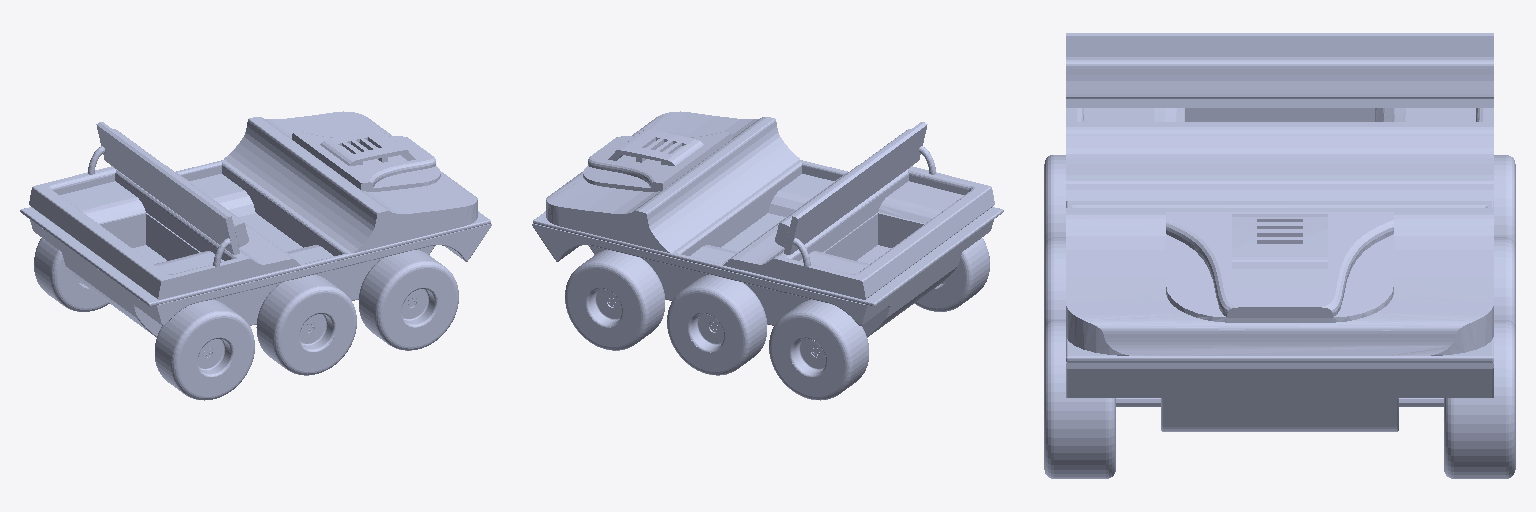
URDF robot description (argo_urdf_2):
<?xml version="1.0"?>
<robot
  name="argo_urdf_2">
  <link
    name="argo_base">
    <inertial>
      <origin
        xyz="-0.0287146112802265 2.27427526650059E-06 -0.0381581636610044"
        rpy="0 0 0" />
      <mass
        value="32.9230854907662" />
      <inertia
        ixx="0.50262556870673"
        ixy="2.64755785172109E-05"
        ixz="0.0516273031694707"
        iyy="1.30944756370371"
        iyz="6.39030326038844E-06"
        izz="1.57981157521551" />
    </inertial>
    <visual>
      <origin
        xyz="0 0 0"
        rpy="0 0 0" />
      <geometry>
        <mesh
          filename="package://argo_description/meshes/argo_base.STL" />
      </geometry>
      <material
        name="">
        <color
          rgba="0.792156862745098 0.819607843137255 0.933333333333333 1" />
      </material>
    </visual>
    <collision>
      <origin
        xyz="0 0 0"
        rpy="0 0 0" />
      <geometry>
        <mesh
          filename="package://argo_description/meshes/argo_base_col.STL" />
      </geometry>
    </collision>
  </link>
  <link
    name="FLW">
    <inertial>
      <origin
        xyz="0 0.0156139504736138 0"
        rpy="0 0 0" />
      <mass
        value="1.50789368049402" />
      <inertia
        ixx="0.00365307678558648"
        ixy="5.1636108652648E-20"
        ixz="2.64359085585098E-19"
        iyy="0.00597955732075583"
        iyz="-2.08311224067256E-21"
        izz="0.00365307678558648" />
    </inertial>
    <visual>
      <origin
        xyz="0 0 0"
        rpy="0 0 0" />
      <geometry>
        <mesh
          filename="package://argo_description/meshes/FLW.STL" />
      </geometry>
      <material
        name="">
        <color
          rgba="0.792156862745098 0.819607843137255 0.933333333333333 1" />
      </material>
    </visual>
    <collision>
      <origin
        xyz="0 0 0"
        rpy="0 0 0" />
      <geometry>
        <mesh
          filename="package://argo_description/meshes/FLW_col.STL" />
      </geometry>
    </collision>
  </link>
  <joint
    name="FLW_cont"
    type="continuous">
    <origin
      xyz="0.12882 0.19812 -0.12406"
      rpy="0 -1.1994E-16 0" />
    <parent
      link="argo_base" />
    <child
      link="FLW" />
    <axis
      xyz="0 1 0" />
  </joint>
  <link
    name="MLW">
    <inertial>
      <origin
        xyz="-1.11022302462516E-16 0.0156139504736138 -2.77555756156289E-17"
        rpy="0 0 0" />
      <mass
        value="1.50789368049402" />
      <inertia
        ixx="0.00365307678558648"
        ixy="-1.96783860550682E-20"
        ixz="-1.53748539592062E-19"
        iyy="0.00597955732075583"
        iyz="2.56422756461994E-20"
        izz="0.00365307678558648" />
    </inertial>
    <visual>
      <origin
        xyz="0 0 0"
        rpy="0 0 0" />
      <geometry>
        <mesh
          filename="package://argo_description/meshes/MLW.STL" />
      </geometry>
      <material
        name="">
        <color
          rgba="0.792156862745098 0.819607843137255 0.933333333333333 1" />
      </material>
    </visual>
    <collision>
      <origin
        xyz="0 0 0"
        rpy="0 0 0" />
      <geometry>
        <mesh
          filename="package://argo_description/meshes/MLW_col.STL" />
      </geometry>
    </collision>
  </link>
  <joint
    name="MLW_cont"
    type="continuous">
    <origin
      xyz="-0.079459 0.19812 -0.12406"
      rpy="0 -1.1994E-16 0" />
    <parent
      link="argo_base" />
    <child
      link="MLW" />
    <axis
      xyz="0 1 0" />
  </joint>
  <link
    name="RLW">
    <inertial>
      <origin
        xyz="1.11022302462516E-16 0.0156139504736138 -8.32667268468867E-17"
        rpy="0 0 0" />
      <mass
        value="1.50789368049402" />
      <inertia
        ixx="0.00365307678558648"
        ixy="-7.0757132097532E-20"
        ixz="2.68751351881889E-19"
        iyy="0.00597955732075583"
        iyz="1.10554828062947E-19"
        izz="0.00365307678558648" />
    </inertial>
    <visual>
      <origin
        xyz="0 0 0"
        rpy="0 0 0" />
      <geometry>
        <mesh
          filename="package://argo_description/meshes/RLW.STL" />
      </geometry>
      <material
        name="">
        <color
          rgba="0.792156862745098 0.819607843137255 0.933333333333333 1" />
      </material>
    </visual>
    <collision>
      <origin
        xyz="0 0 0"
        rpy="0 0 0" />
      <geometry>
        <mesh
          filename="package://argo_description/meshes/RLW_col.STL" />
      </geometry>
    </collision>
  </link>
  <joint
    name="RLW_cont"
    type="continuous">
    <origin
      xyz="-0.28774 0.19812 -0.12406"
      rpy="0 -1.1994E-16 0" />
    <parent
      link="argo_base" />
    <child
      link="RLW" />
    <axis
      xyz="0 1 0" />
  </joint>
  <link
    name="FRW">
    <inertial>
      <origin
        xyz="5.55111512312578E-17 -0.0156139504736139 0"
        rpy="0 0 0" />
      <mass
        value="1.50789368049402" />
      <inertia
        ixx="0.00365307678558648"
        ixy="4.05259849993083E-20"
        ixz="4.25308640713539E-19"
        iyy="0.00597955732075583"
        iyz="-4.92635009524994E-20"
        izz="0.00365307678558648" />
    </inertial>
    <visual>
      <origin
        xyz="0 0 0"
        rpy="0 0 0" />
      <geometry>
        <mesh
          filename="package://argo_description/meshes/FRW.STL" />
      </geometry>
      <material
        name="">
        <color
          rgba="0.792156862745098 0.819607843137255 0.933333333333333 1" />
      </material>
    </visual>
    <collision>
      <origin
        xyz="0 0 0"
        rpy="0 0 0" />
      <geometry>
        <mesh
          filename="package://argo_description/meshes/FRW_col.STL" />
      </geometry>
    </collision>
  </link>
  <joint
    name="FRW_cont"
    type="continuous">
    <origin
      xyz="0.128821215414625 -0.19812 -0.124058737135444"
      rpy="0 0 0" />
    <parent
      link="argo_base" />
    <child
      link="FRW" />
    <axis
      xyz="0 -1 0" />
  </joint>
  <link
    name="MRW">
    <inertial>
      <origin
        xyz="0 -0.0156139504736138 1.38777878078145E-16"
        rpy="0 0 0" />
      <mass
        value="1.50789368049402" />
      <inertia
        ixx="0.00365307678558648"
        ixy="1.31117846911124E-21"
        ixz="-5.15282286567131E-19"
        iyy="0.00597955732075583"
        iyz="-2.1351225407273E-20"
        izz="0.00365307678558648" />
    </inertial>
    <visual>
      <origin
        xyz="0 0 0"
        rpy="0 0 0" />
      <geometry>
        <mesh
          filename="package://argo_description/meshes/MRW.STL" />
      </geometry>
      <material
        name="">
        <color
          rgba="0.792156862745098 0.819607843137255 0.933333333333333 1" />
      </material>
    </visual>
    <collision>
      <origin
        xyz="0 0 0"
        rpy="0 0 0" />
      <geometry>
        <mesh
          filename="package://argo_description/meshes/MRW_col.STL" />
      </geometry>
    </collision>
  </link>
  <joint
    name="MRW_cont"
    type="continuous">
    <origin
      xyz="-0.079459 -0.19812 -0.12406"
      rpy="0 -1.1994E-16 0" />
    <parent
      link="argo_base" />
    <child
      link="MRW" />
    <axis
      xyz="0 -1 0" />
  </joint>
  <link
    name="RRW">
    <inertial>
      <origin
        xyz="-1.11022302462516E-16 -0.0156139504736139 0"
        rpy="0 0 0" />
      <mass
        value="1.50789368049402" />
      <inertia
        ixx="0.00365307678558648"
        ixy="1.06637185456317E-19"
        ixz="1.35525271560688E-20"
        iyy="0.00597955732075583"
        iyz="-1.42529762888991E-20"
        izz="0.00365307678558648" />
    </inertial>
    <visual>
      <origin
        xyz="0 0 0"
        rpy="0 0 0" />
      <geometry>
        <mesh
          filename="package://argo_description/meshes/RRW.STL" />
      </geometry>
      <material
        name="">
        <color
          rgba="0.792156862745098 0.819607843137255 0.933333333333333 1" />
      </material>
    </visual>
    <collision>
      <origin
        xyz="0 0 0"
        rpy="0 0 0" />
      <geometry>
        <mesh
          filename="package://argo_description/meshes/RRW_col.STL" />
      </geometry>
    </collision>
  </link>
  <joint
    name="RRW_cont"
    type="continuous">
    <origin
      xyz="-0.28774 -0.19812 -0.12406"
      rpy="0 -0.010714 0" />
    <parent
      link="argo_base" />
    <child
      link="RRW" />
    <axis
      xyz="0 -1 0" />
  </joint>
</robot>

--- Facts derived from the render (not from the file) ---
Views: 3 orthographic renders of the robot side by side, from view 1: azimuth 30°, elevation 25°; view 2: azimuth 150°, elevation 25°; view 3: azimuth 270°, elevation 25°.
Robot: argo_urdf_2 — 7 links, 6 joints (6 continuous); root link argo_base; default pose: all joints at 0.
Visible links, largest first — view 1: argo_base, FRW, MRW, RRW, RLW; view 2: argo_base, FLW, MLW, RLW, RRW; view 3: argo_base, FRW, FLW, MLW, MRW, RRW, RLW.
Link boxes in pixels (box(x1,y1,x2,y2)): argo_base: box(20, 111, 491, 337); FRW: box(359, 250, 458, 350); MRW: box(256, 275, 356, 375); RRW: box(155, 299, 254, 400); RLW: box(34, 238, 109, 311); argo_base: box(532, 111, 1003, 337); FLW: box(565, 250, 664, 350); MLW: box(667, 274, 766, 375); RLW: box(769, 299, 868, 400); RRW: box(914, 238, 989, 311); argo_base: box(1066, 33, 1493, 431); FRW: box(1044, 320, 1115, 478); FLW: box(1444, 320, 1515, 478); MLW: box(1494, 237, 1515, 328); MRW: box(1044, 237, 1065, 328); RRW: box(1044, 155, 1065, 246); RLW: box(1494, 155, 1515, 246).
Bounding box of the posed robot: 0.6988 × 0.5029 × 0.3408 m (x, y, z).
7 mesh visuals loaded from 7 distinct referenced files (7 binary STL).
